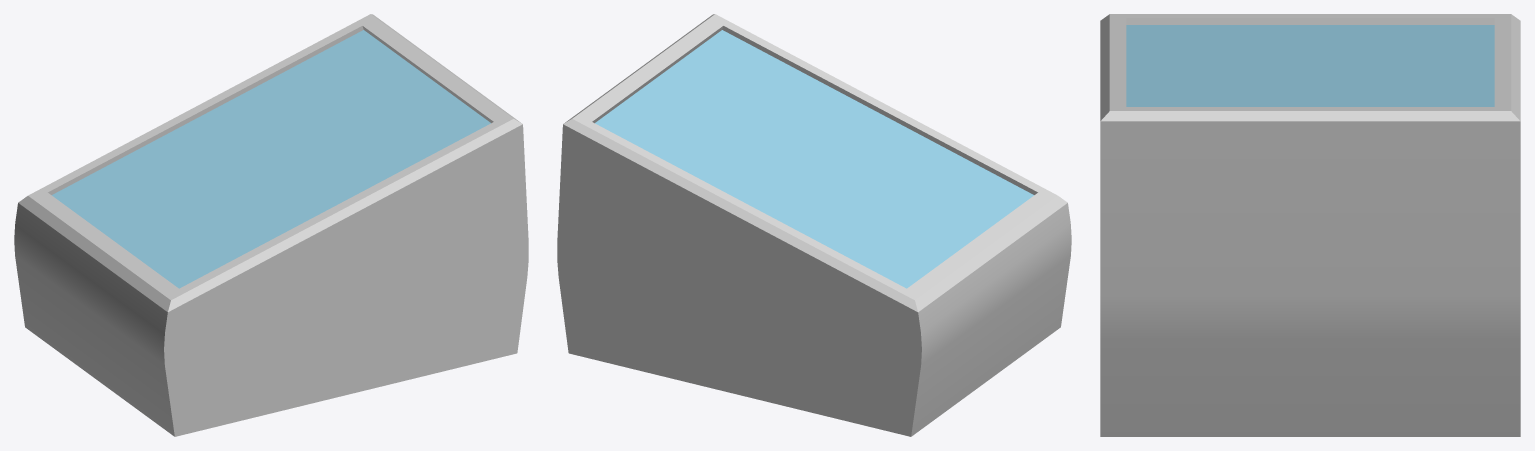
The model's file is esfigmocaixa.fbx.
3 renders of one model, left to right at view 1: azimuth 30°, elevation 25°; view 2: azimuth 150°, elevation 25°; view 3: azimuth 270°, elevation 25°, orthographic. The views are drawn at different scales.
Parts seen in each view (by area): view 1: Plane; view 2: Plane; view 3: Plane.
Boxes of the visible parts, x1=… form: Plane: x1=14, y1=14, x2=528, y2=436; Plane: x1=557, y1=14, x2=1071, y2=436; Plane: x1=1100, y1=14, x2=1520, y2=436.
Size of the model in its own units: 14.5 by 8.82 by 10.31.
